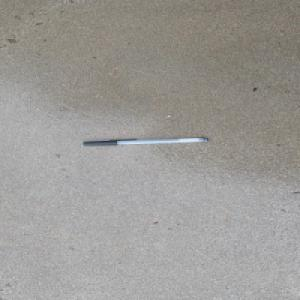Pen: (81, 137, 209, 147)
